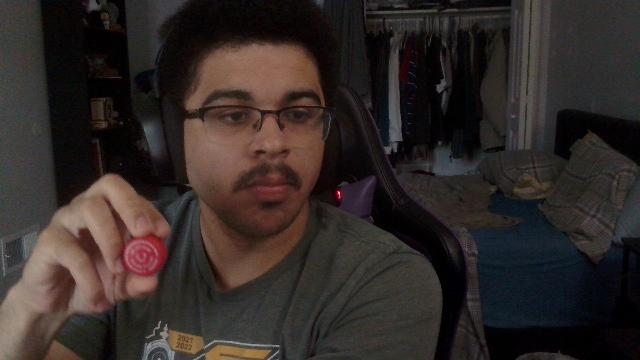cap: (124, 236, 166, 276)
